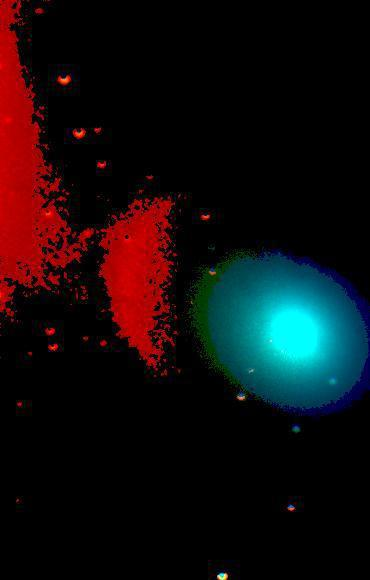star: (218, 286, 248, 316)
